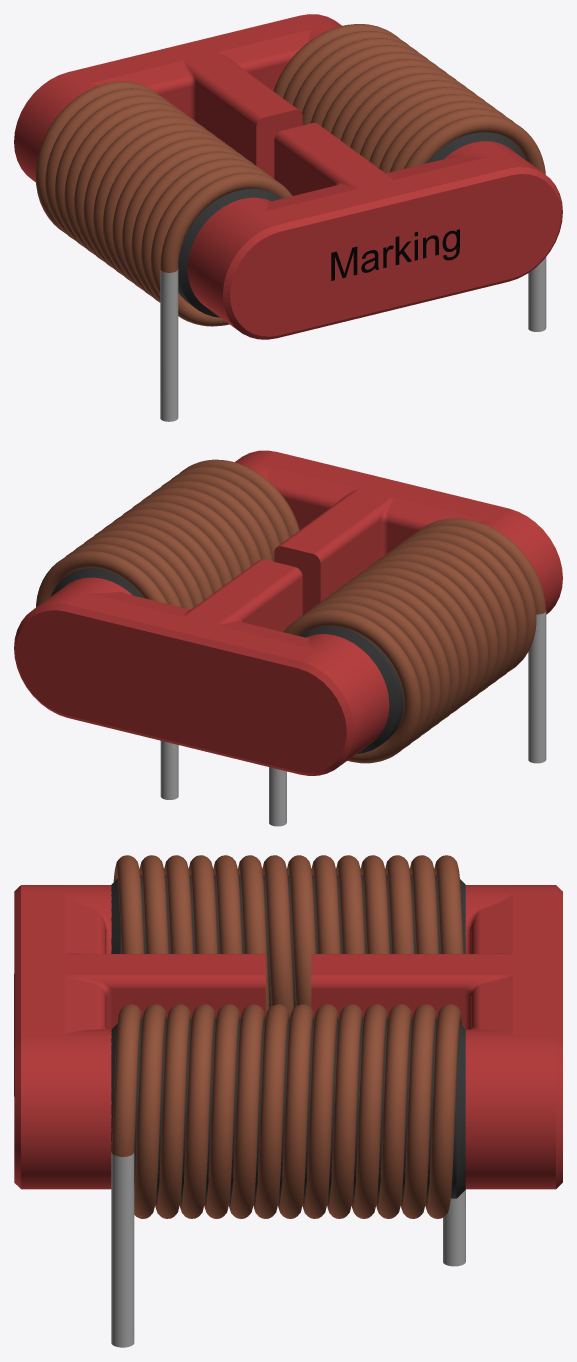
File: We-LPCC Common Mode Power Line Choke.gltf
The picture shows the model from 3 angles, top to bottom: view 1: azimuth 30°, elevation 25°; view 2: azimuth 150°, elevation 25°; view 3: azimuth 270°, elevation 25°; orthographic projection. The views are drawn at different scales.
Parts seen in each view (by area): view 1: Core, Coil-L001, Coil-R001, Core001, Glue-L, Glue-R; view 2: Core001, Coil-L001, Coil-R001, Core, Glue-L, Glue-R; view 3: Coil-R001, Core, Core001, Coil-L001, Glue-R, Glue-L.
Boxes of the visible parts, x1,y1,x2,y2 form: Core: (187, 123, 562, 339); Coil-L001: (35, 81, 292, 421); Coil-R001: (273, 24, 546, 331); Core001: (14, 14, 341, 182); Glue-L: (178, 188, 280, 317); Glue-R: (426, 132, 525, 163); Core001: (14, 559, 389, 775); Coil-L001: (269, 518, 546, 826); Coil-R001: (36, 459, 299, 799); Core: (235, 450, 562, 614); Glue-L: (299, 626, 403, 753); Glue-R: (51, 568, 143, 597); Coil-R001: (111, 1004, 465, 1347); Core: (14, 885, 265, 1189); Core001: (311, 885, 562, 1189); Coil-L001: (113, 855, 463, 1016); Glue-R: (111, 1020, 465, 1198); Glue-L: (111, 875, 465, 1007).
Size of the model in its own units: 0.0248 by 0.0139 by 0.024.
